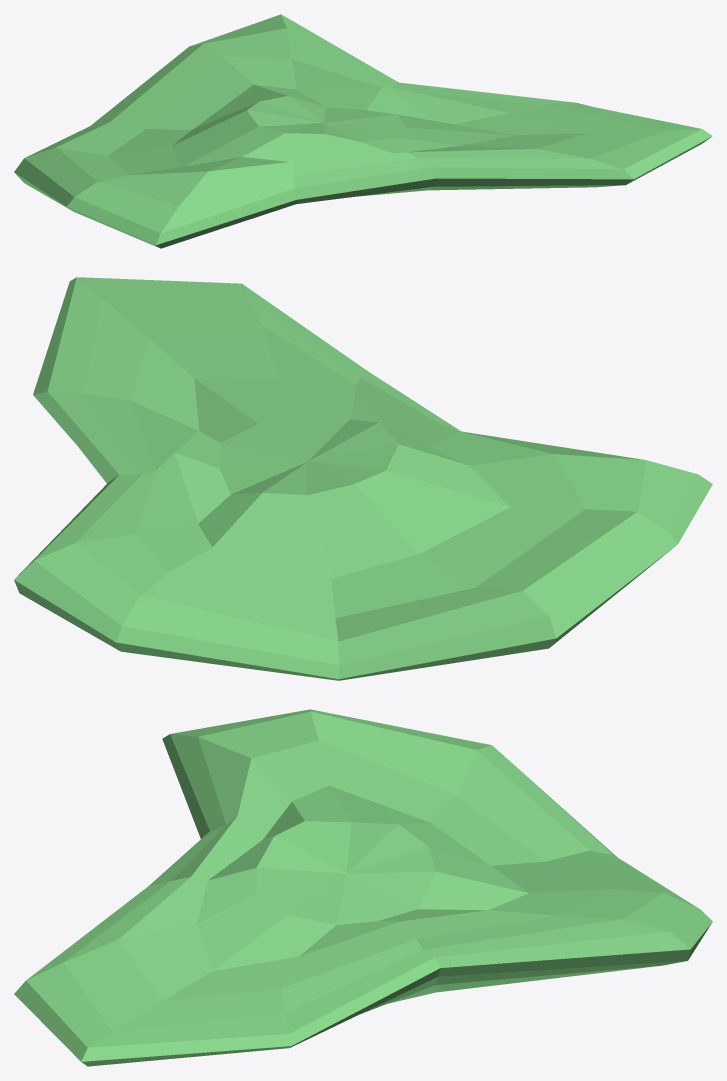
Rendered from stickers_03.fbx.
3 views of the same model, one above another, from view 1: azimuth 30°, elevation 25°; view 2: azimuth 150°, elevation 25°; view 3: azimuth 270°, elevation 25° (orthographic). The views are drawn at different scales.
Visible parts, largest first — view 1: pSphere1; view 2: pSphere1; view 3: pSphere1.
Boxes of the visible parts, left/top/right/bottom form: pSphere1: left=14, top=14, right=712, bottom=248; pSphere1: left=14, top=277, right=712, bottom=680; pSphere1: left=14, top=709, right=712, bottom=1066.
Bounding box in the file's own units: 2.4 × 0.3165 × 2.04.
